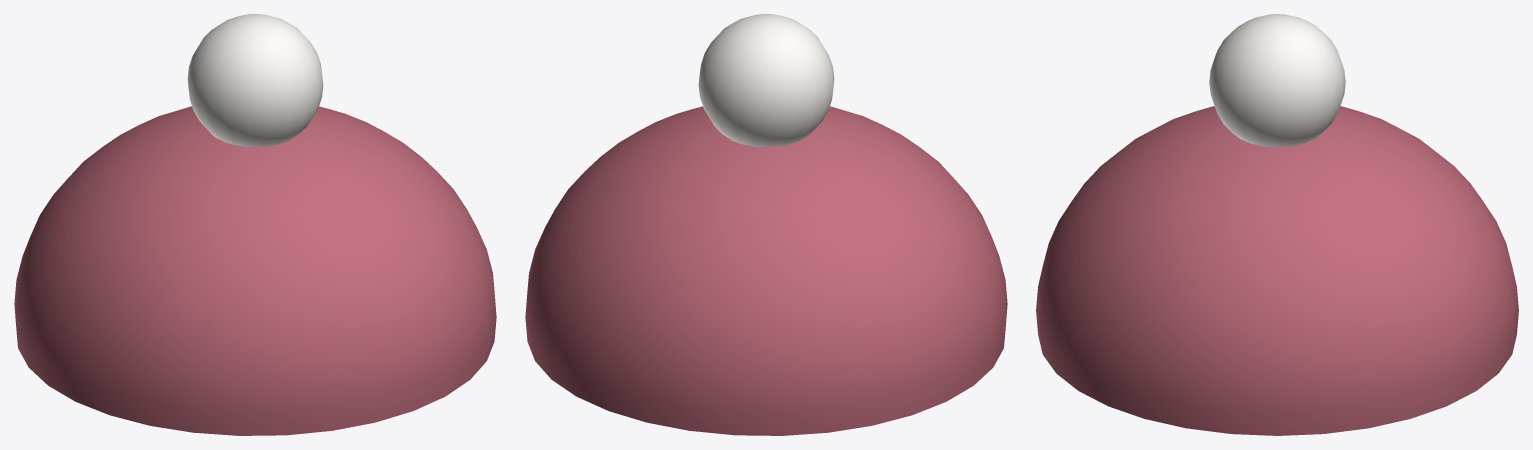
Rendered from beanie.glb.
3 views of the same model, side by side, from view 1: azimuth 30°, elevation 25°; view 2: azimuth 150°, elevation 25°; view 3: azimuth 270°, elevation 25° (orthographic).
Visible parts, largest first — view 1: beanie, pompom; view 2: beanie, pompom; view 3: beanie, pompom.
Part boxes in pixels (x1,y1,x2,y2): beanie: (14,106,496,435); pompom: (187,14,323,147); beanie: (525,106,1007,435); pompom: (698,14,834,147); beanie: (1036,106,1518,435); pompom: (1209,14,1345,147).
Bounding box in the file's own units: 0.92 × 0.661 × 0.92.
